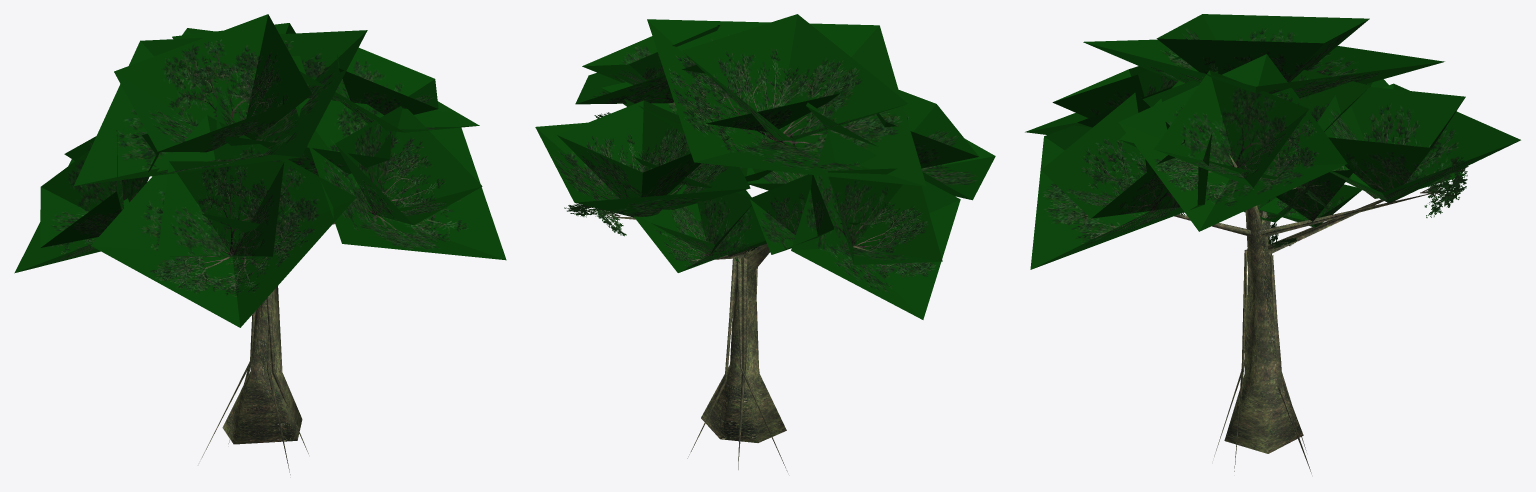
The model's file is decd_treecanopy_a3_l2.fbx.
3 renders of one model, left to right at view 1: azimuth 30°, elevation 25°; view 2: azimuth 150°, elevation 25°; view 3: azimuth 270°, elevation 25°, orthographic. The views are drawn at different scales.
Parts seen in each view (by area): view 1: mesh_node; view 2: mesh_node; view 3: mesh_node.
Part boxes in pixels (x1,y1,x2,y2): mesh_node: (14,14,506,474); mesh_node: (535,14,995,471); mesh_node: (1025,14,1520,473).
Bounding box in the file's own units: 30.36 × 30.32 × 31.14.
